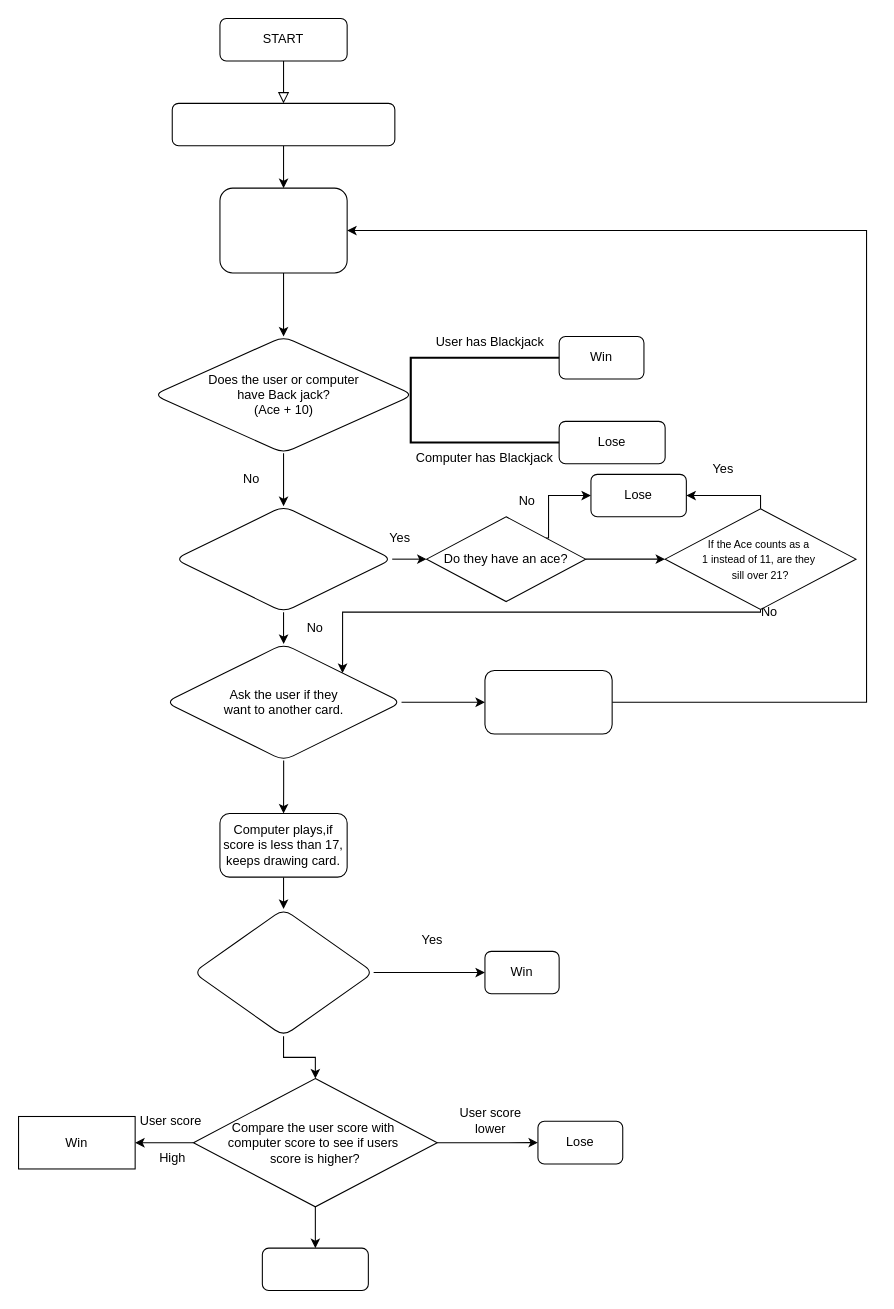
Some shapes in this 894 by 1309 pixel diagram are drawn without their labels. The centre of each missing label's shape, as x and y in pixels:
"Add up the user's and the computer's scores" belongs at pixel 283 230.
"Draw" belongs at pixel 314 1269.
"Draw another card" belongs at pixel 548 701.
"Has computer gone over 21" belongs at pixel 283 972.
"Is user's score over 21?" belongs at pixel 283 558.
"The user and computer should each get 2 random cards." belongs at pixel 283 124.
